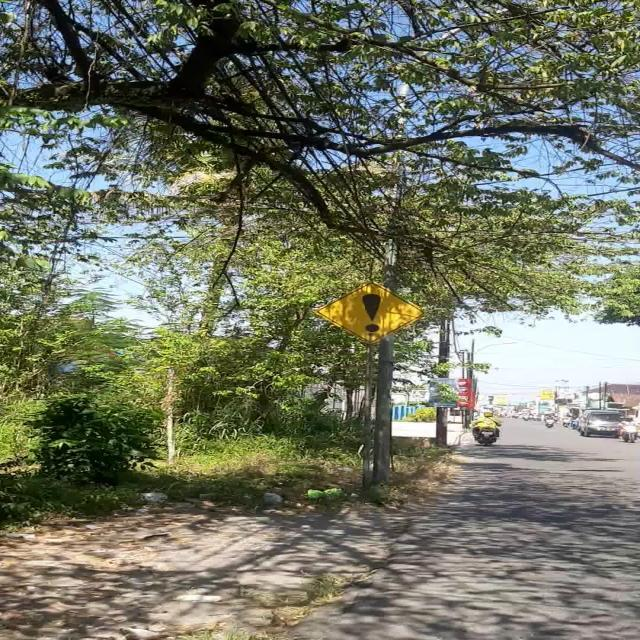Hati-Hati: (314, 282, 426, 344)
